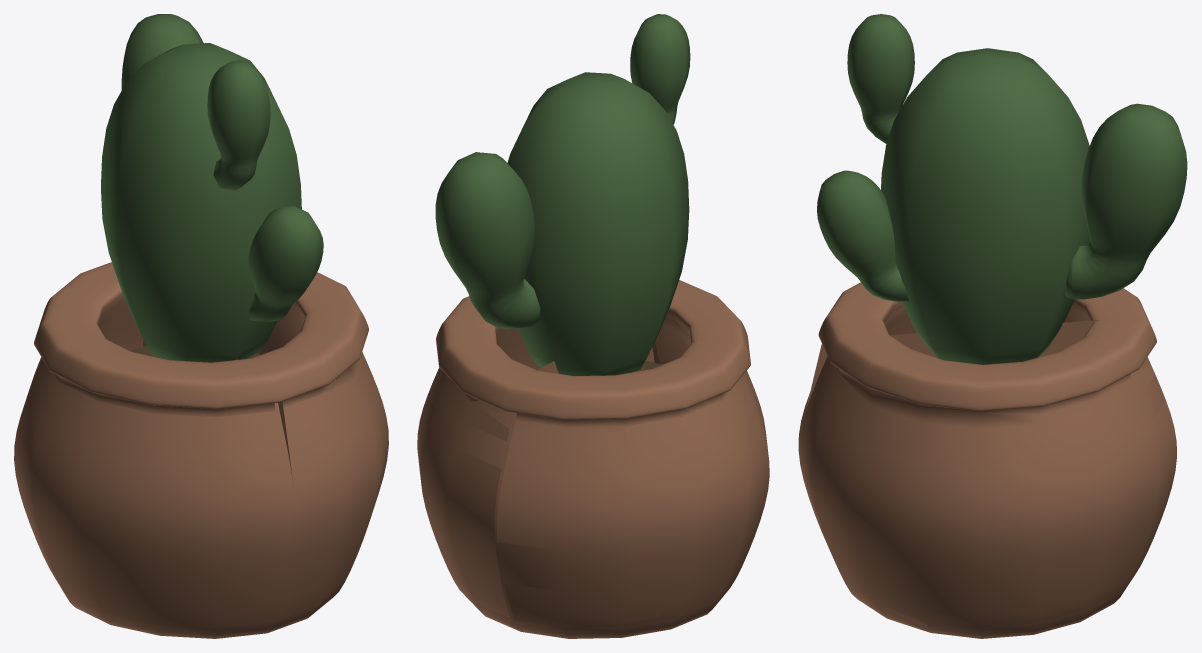
File: Plant 03.fbx
3 renders of one model, left to right at view 1: azimuth 30°, elevation 25°; view 2: azimuth 150°, elevation 25°; view 3: azimuth 270°, elevation 25°, orthographic. The views are drawn at different scales.
Visible parts, largest first — view 1: Plant.003, Plant_cactus.003, Cactus_leaf.001, Plant_pot.003_cell.001, Cactus_leaf.002, Plant_pot.003_cell.002, Cactus_leaf.003; view 2: Plant.003, Plant_cactus.003, Cactus_leaf.002, Plant_pot.003_cell.001, Plant_pot.003_cell.002, Cactus_leaf.003, Cactus_leaf.004; view 3: Plant_pot.003_cell.002, Cactus_leaf.002, Plant.003, Cactus_leaf.003, Plant_cactus.003, Cactus_leaf.001, Cactus_leaf.004, Plant_pot.003_cell.001.
Part boxes in pixels (x1,y1,x2,y2): Plant.003: (14,262,388,638); Plant_cactus.003: (101,15,309,362); Cactus_leaf.001: (263,206,323,321); Plant_pot.003_cell.001: (54,313,275,417); Cactus_leaf.002: (108,43,283,257); Plant_pot.003_cell.002: (142,331,388,482); Cactus_leaf.003: (137,14,203,46); Plant.003: (436,280,769,638); Plant_cactus.003: (457,14,690,375); Cactus_leaf.002: (507,72,673,375); Plant_pot.003_cell.001: (497,316,739,627); Plant_pot.003_cell.002: (417,347,654,617); Cactus_leaf.003: (435,152,507,329); Cactus_leaf.004: (630,14,668,109); Plant_pot.003_cell.002: (804,319,1176,628); Cactus_leaf.002: (909,48,1090,364); Plant.003: (798,282,1176,638); Cactus_leaf.003: (1065,105,1187,299); Plant_cactus.003: (820,14,1178,364); Cactus_leaf.001: (817,176,908,301); Cactus_leaf.004: (856,14,914,143); Plant_pot.003_cell.001: (884,306,1069,335).
Size of the model in its own units: 19.86 by 32.4 by 20.41.
